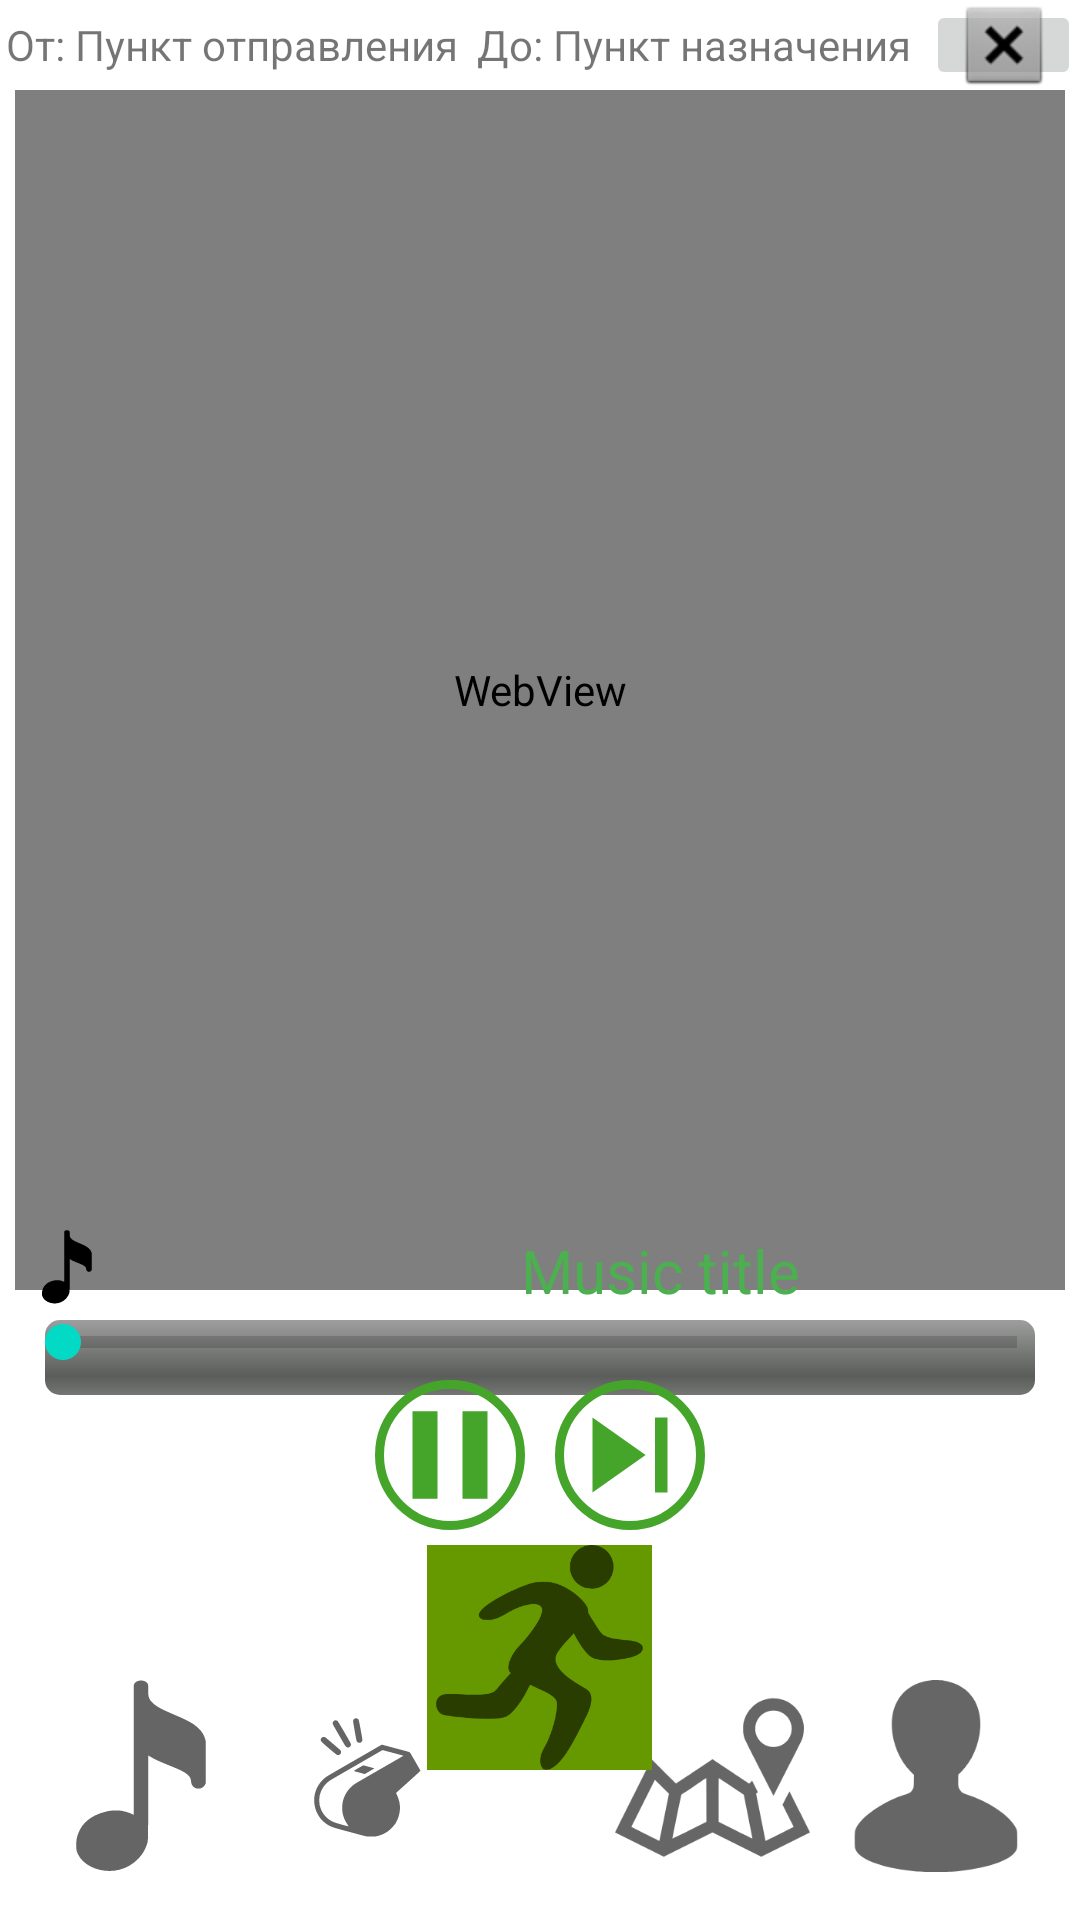

Locate icon controls on the screen. Image size 1080×1920, boxes as (x1, y1, x2, y2).
body: (854, 1680, 1018, 1872)
map: (615, 1680, 810, 1857)
pause: (375, 1380, 525, 1530)
run: (427, 1545, 652, 1770)
skip next: (555, 1380, 705, 1530)
